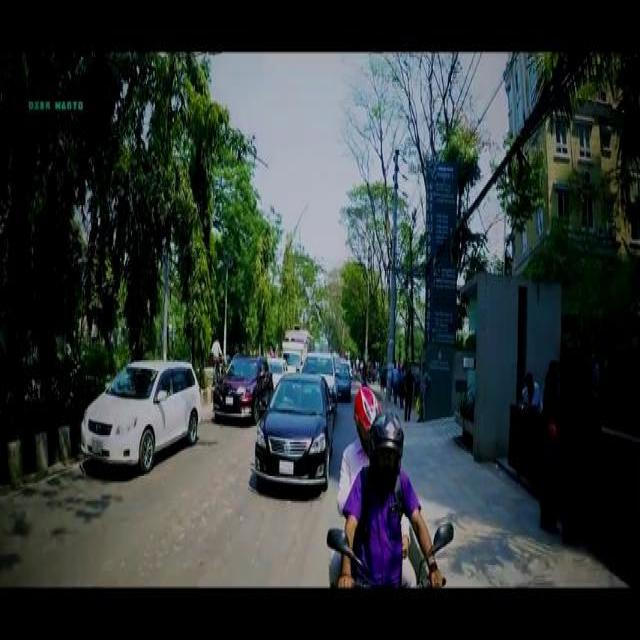bicycle: (211, 356, 225, 379)
bus: (284, 326, 314, 346)
car: (80, 358, 202, 464), (253, 372, 333, 482), (212, 350, 272, 418), (336, 359, 349, 395), (268, 355, 288, 378)
pickup: (300, 350, 338, 390), (280, 340, 306, 368)
